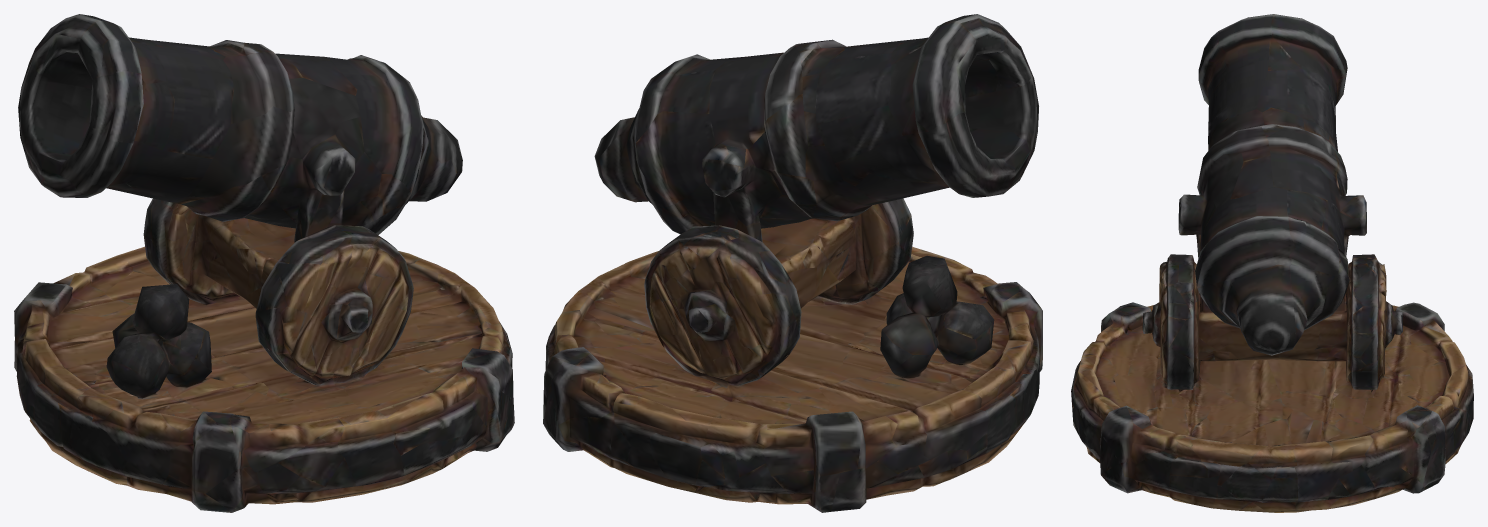
The model's file is cannon.glb.
3 renders of one model, left to right at view 1: azimuth 30°, elevation 25°; view 2: azimuth 150°, elevation 25°; view 3: azimuth 270°, elevation 25°, orthographic. The views are drawn at different scales.
Parts seen in each view (by area): view 1: node_0; view 2: node_0; view 3: node_0.
Part boxes in pixels (x1=…): node_0: x1=14, y1=14, x2=514, y2=512; node_0: x1=543, y1=14, x2=1042, y2=512; node_0: x1=1071, y1=14, x2=1473, y2=512.
Bounding box in the file's own units: 1.9 × 1.79 × 1.84.
Materials: 1 (1 with a texture image).
